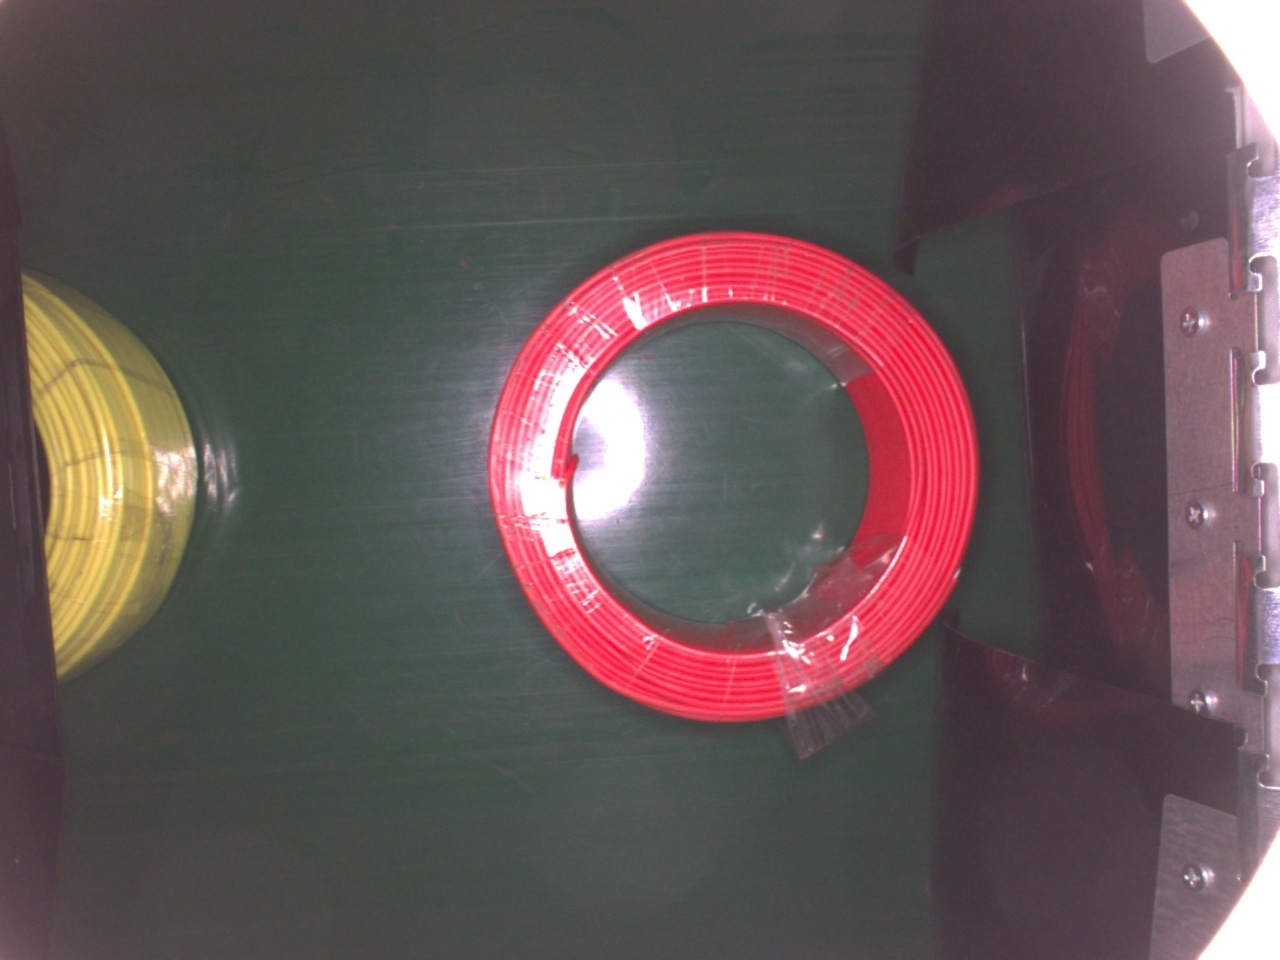red: (485, 225, 979, 725)
yellow: (21, 269, 204, 693)
